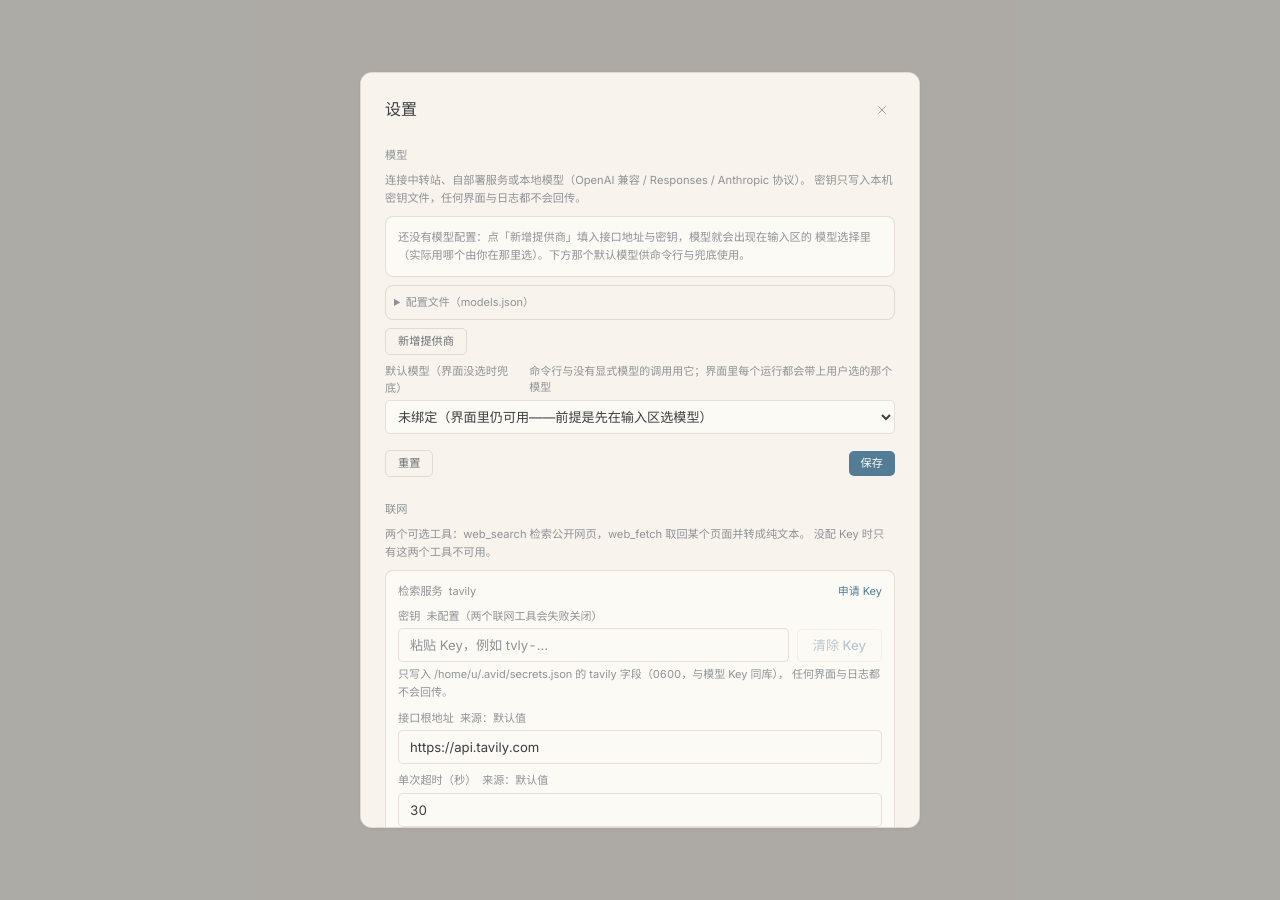
Test: 获取模型失败：把原因说出来，不假装拿到空列表
Click the button "新增提供商": coordinates (426, 341) left=385, top=328, right=467, bottom=355
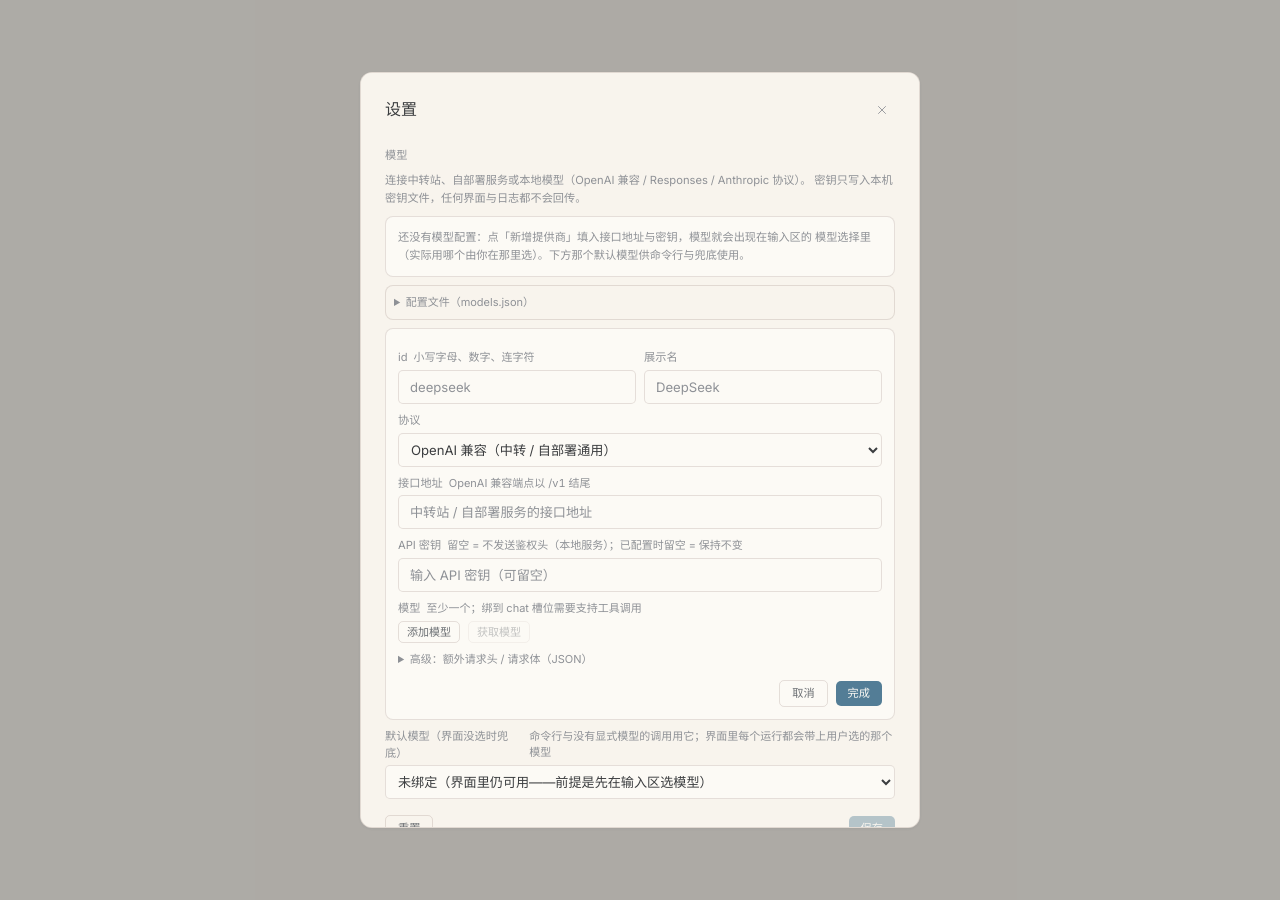
In the field with placeholder "中转站 / 自部署服务的接口地址": coordinates (640, 512) left=398, top=495, right=882, bottom=529, type "https://gw.example"
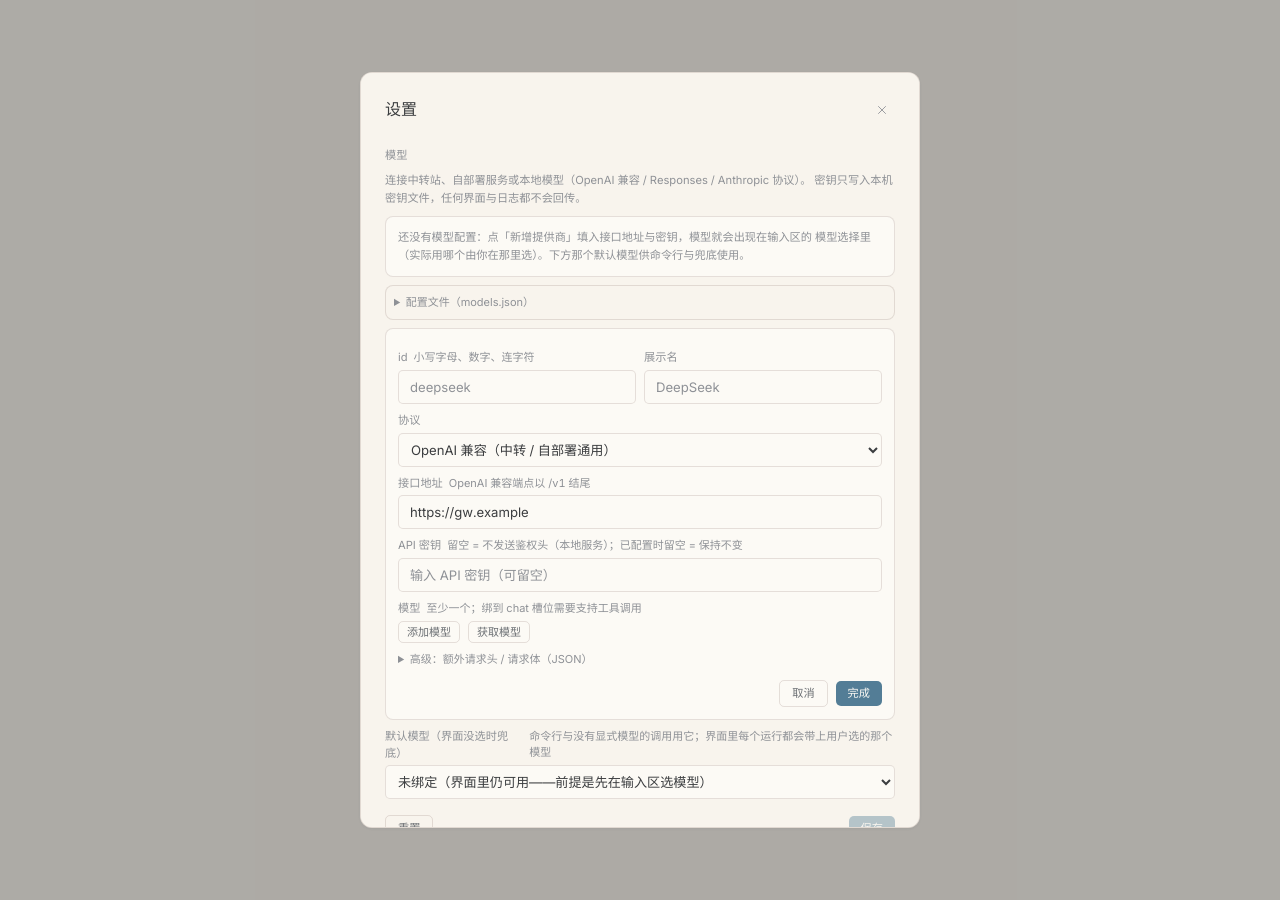
Click the button "获取模型": coordinates (499, 632) left=468, top=621, right=530, bottom=644
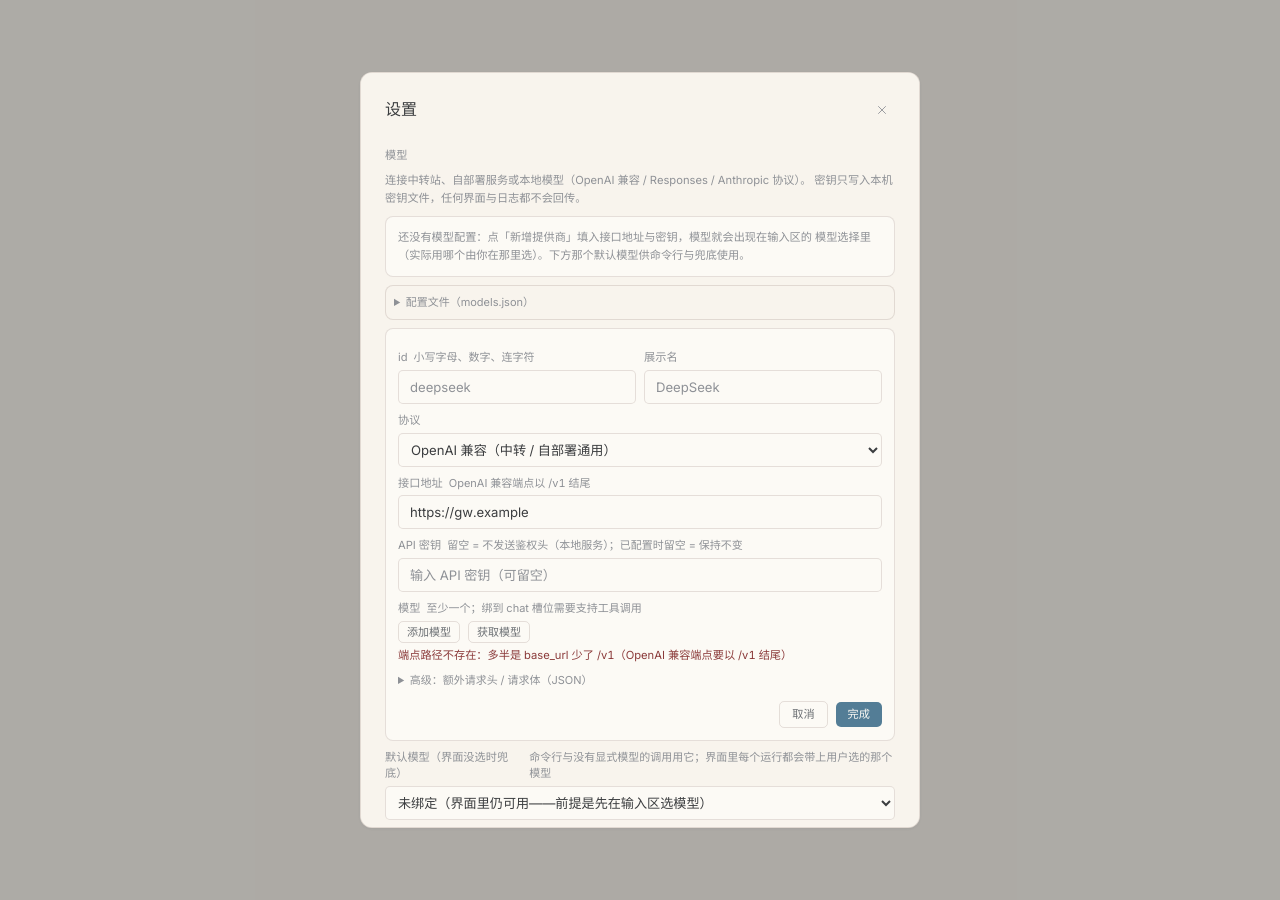
expect the text "端点路径不存在：多半是 base_url 少了 /v1（OpenAI 兼容端点要以 /v1 结尾）" is shown: met, box left=398, top=648, right=792, bottom=662
